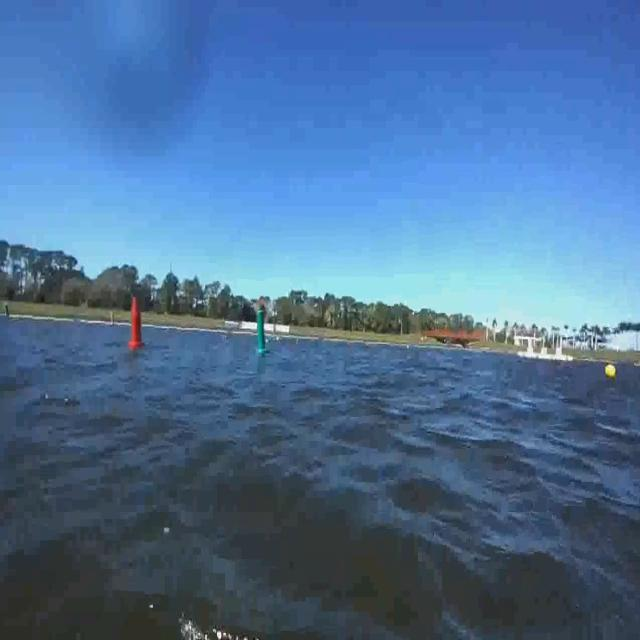green-column-buoy: (254, 308, 268, 355)
red-column-buoy: (129, 296, 145, 348)
yellow-buoy: (604, 362, 616, 379)
